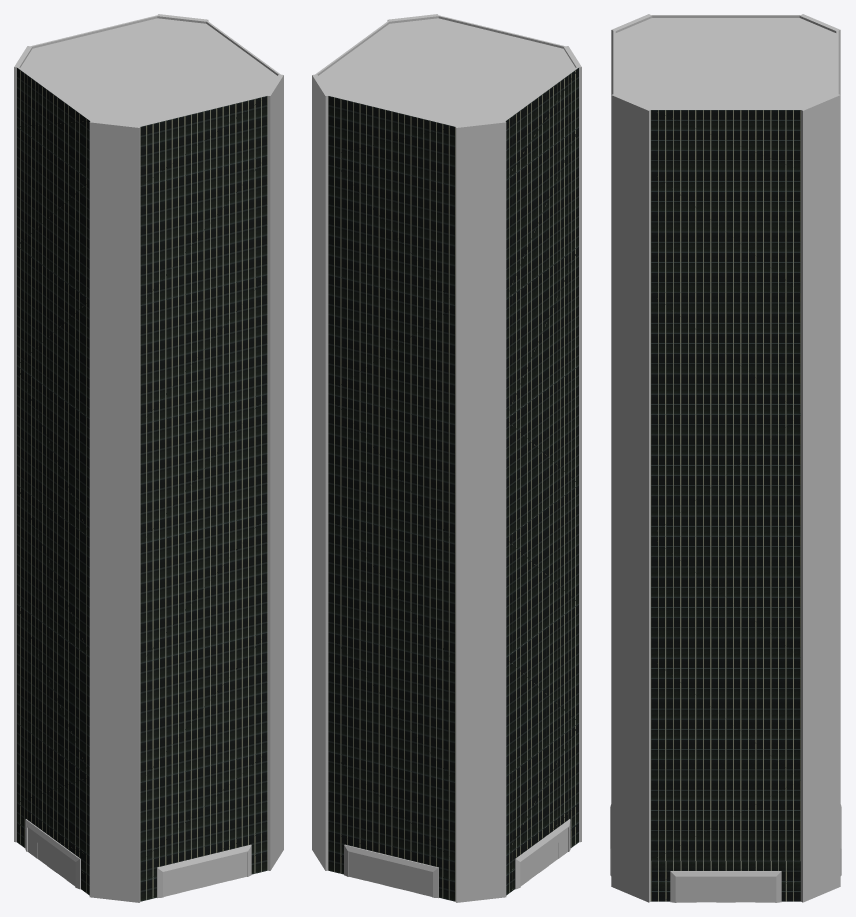
3 renders of one model, left to right at view 1: azimuth 30°, elevation 25°; view 2: azimuth 150°, elevation 25°; view 3: azimuth 270°, elevation 25°, orthographic. The views are drawn at different scales.
Parts seen in each view (by area): view 1: EC-032; view 2: EC-032; view 3: EC-032.
Part boxes in pixels (x1=…): EC-032: x1=14, y1=14, x2=283, y2=902; EC-032: x1=312, y1=14, x2=581, y2=902; EC-032: x1=610, y1=14, x2=841, y2=902.
Size of what is drawn, in the model's own units: 30.92 by 117 by 30.94.
